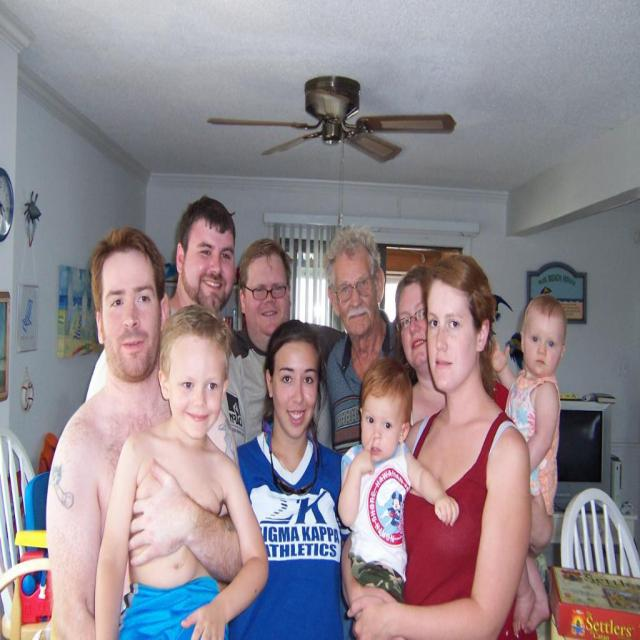Bulb: (206, 76, 456, 226)
